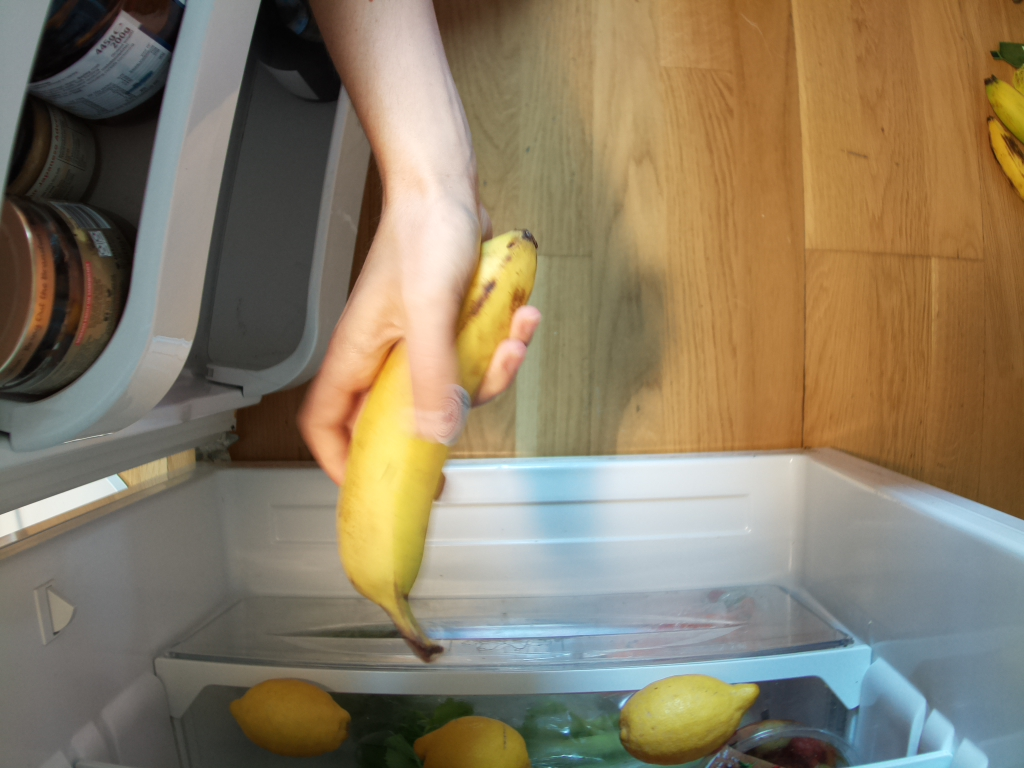banana: (336, 221, 545, 663)
